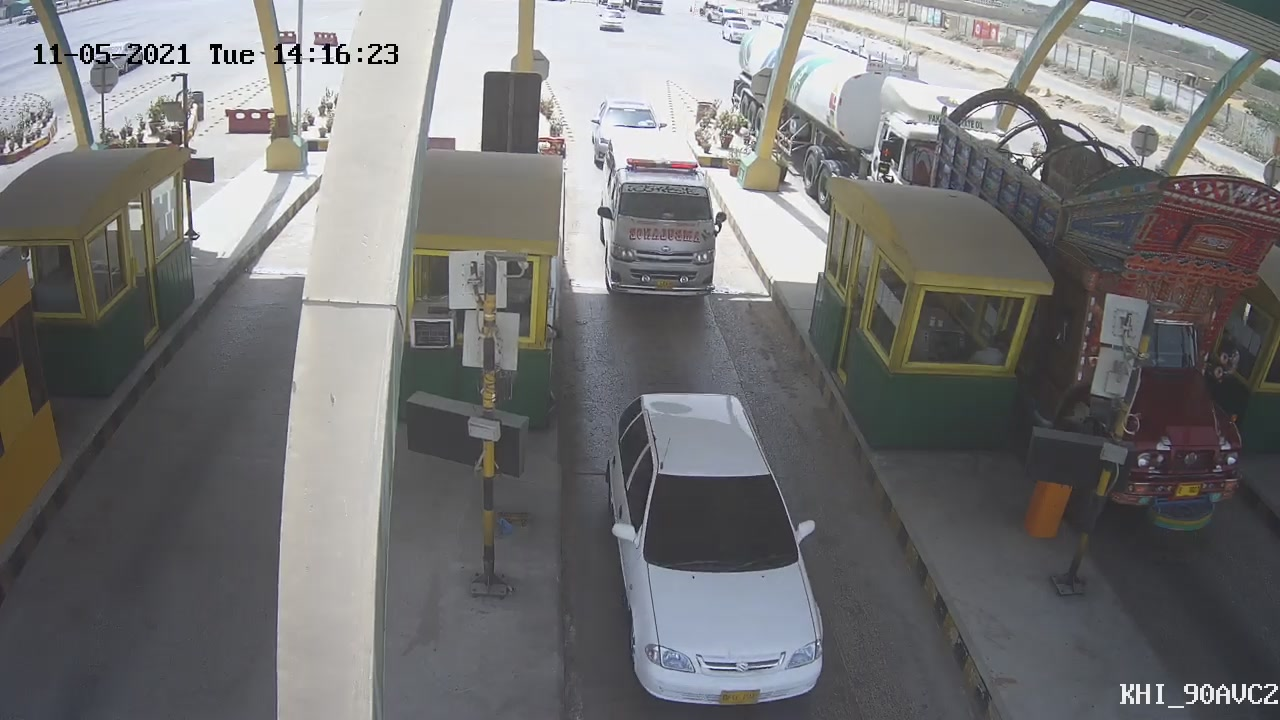F2: (599, 123, 736, 314)
